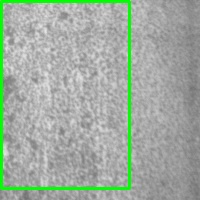pitted_surface: (1, 1, 129, 188)
